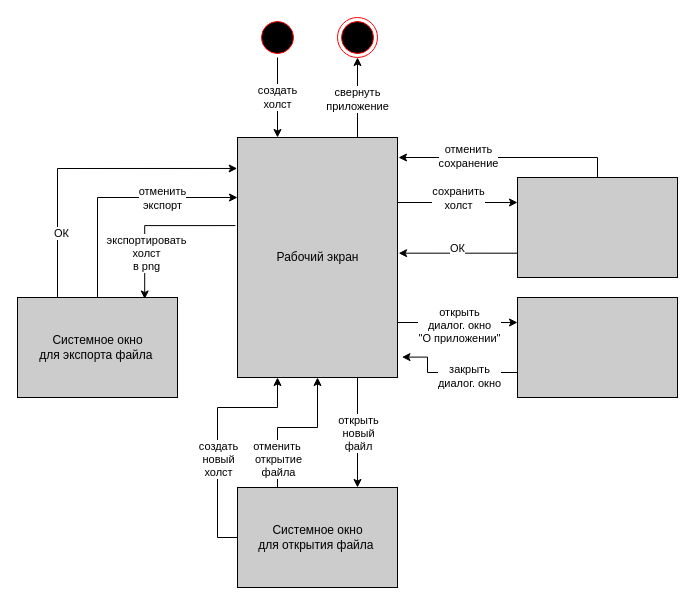
Some shapes in this 695 by 605 pixel diagram are drawn without their labels. The box of each missing label's shape, as (x1, y1, x2, y2) in pixels:
Диалоговое окно "О приложении": (516, 296, 678, 398)
Системное окно выбора место для сохранения файла: (516, 176, 678, 278)
